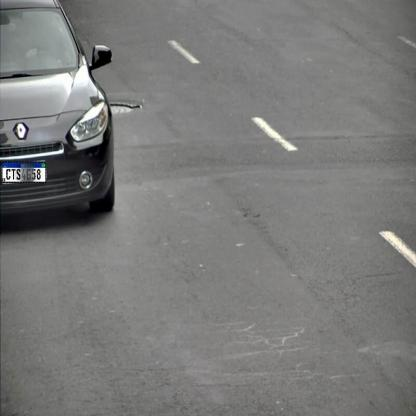PlacaM: (2, 162, 46, 183)
